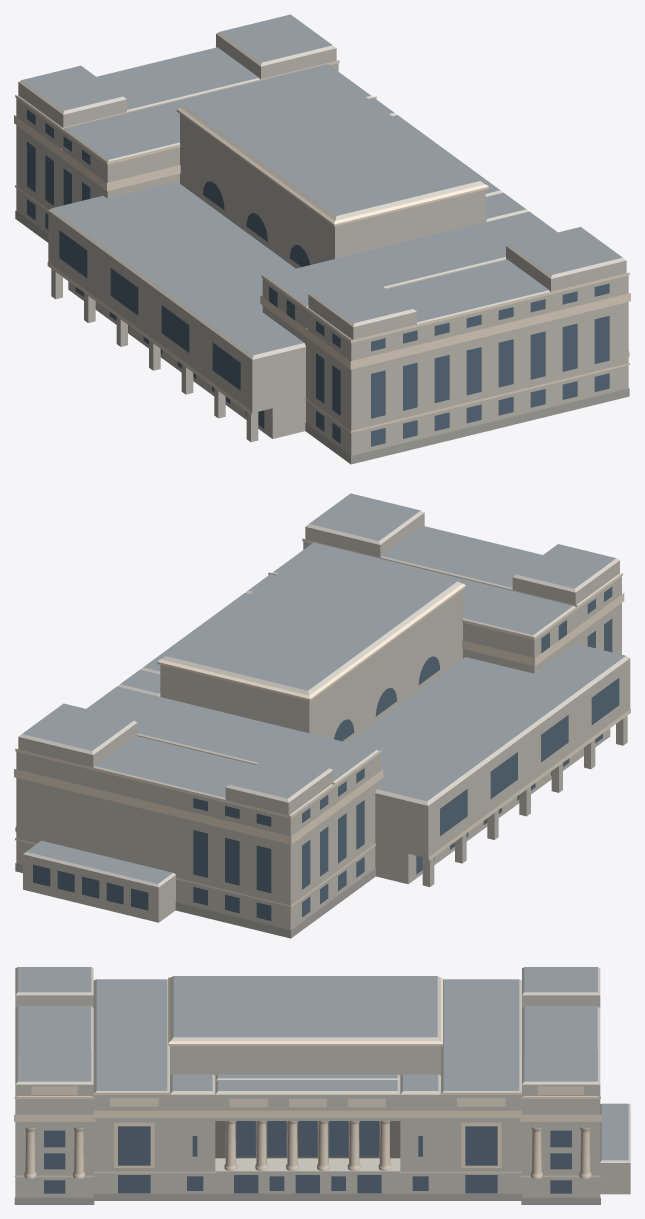
The model's file is dal-union-station.glb.
3 renders of one model, top to bottom at view 1: azimuth 30°, elevation 25°; view 2: azimuth 150°, elevation 25°; view 3: azimuth 270°, elevation 25°, orthographic. The views are drawn at different scales.
Visible parts, largest first — view 1: Dallas Union Station; view 2: Dallas Union Station; view 3: Dallas Union Station.
Boxes of the visible parts, bbox=[...] form: Dallas Union Station: bbox=[14, 14, 630, 464]; Dallas Union Station: bbox=[14, 493, 630, 938]; Dallas Union Station: bbox=[14, 967, 630, 1204].
Bounding box in the file's own units: 50.77 × 23.3 × 91.37.
